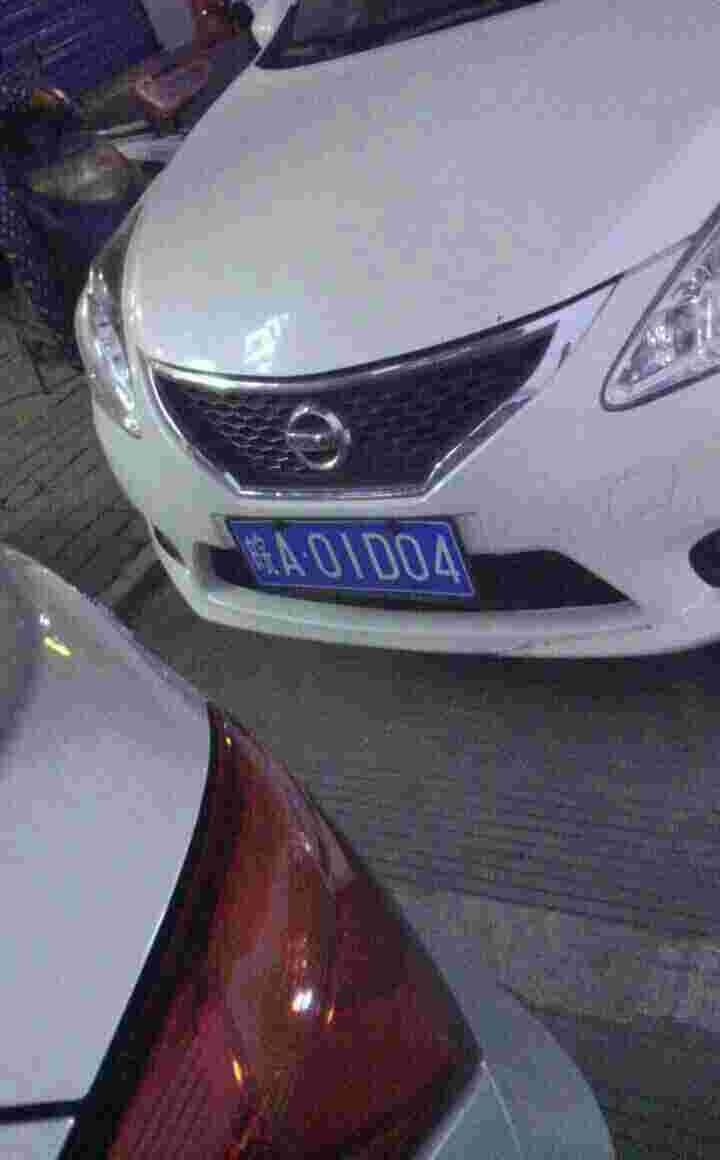license_plate: (231, 522, 475, 598)
